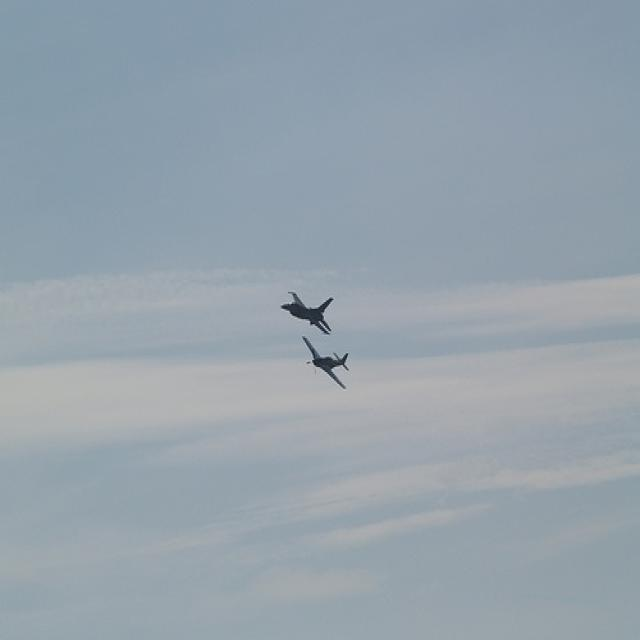aeroplane: (275, 278, 337, 342), (292, 333, 354, 392)
